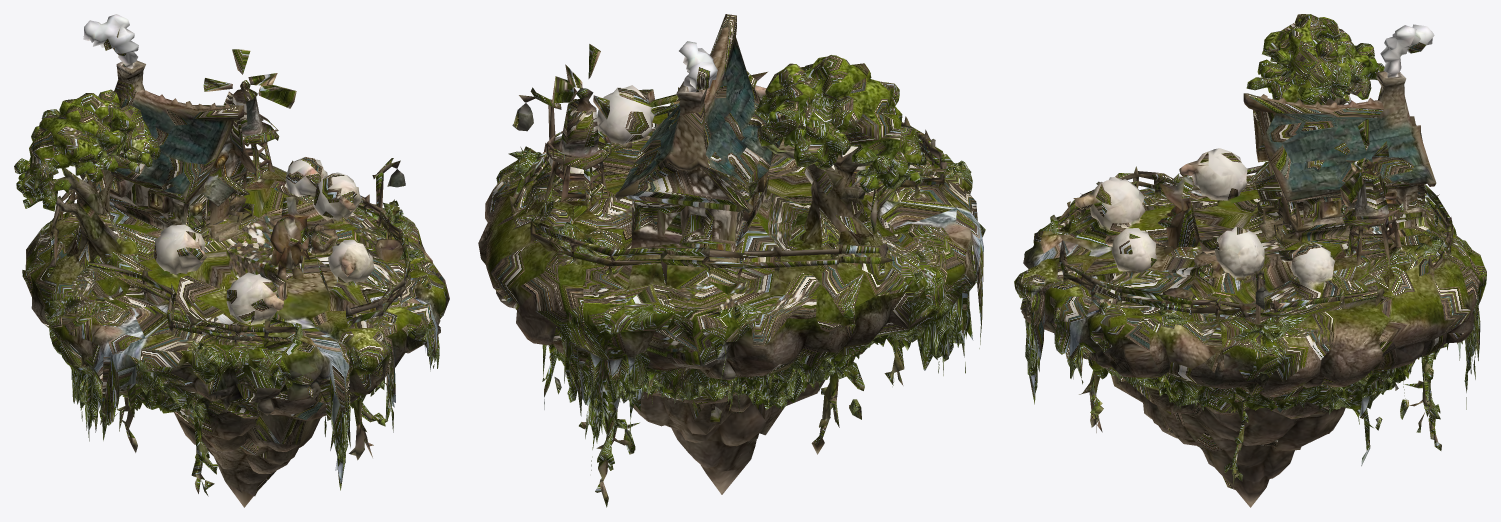
Rendered from Floating_Island_Farm.glb.
3 renders of one model, left to right at view 1: azimuth 30°, elevation 25°; view 2: azimuth 150°, elevation 25°; view 3: azimuth 270°, elevation 25°, orthographic. The views are drawn at different scales.
Parts seen in each view (by area): view 1: Floating_Island_Farm; view 2: Floating_Island_Farm; view 3: Floating_Island_Farm.
Part boxes in pixels (left/top/right/bottom): Floating_Island_Farm: left=14, top=14, right=449, bottom=507; Floating_Island_Farm: left=478, top=14, right=985, bottom=507; Floating_Island_Farm: left=1014, top=14, right=1486, bottom=507.
Bounding box in the file's own units: 1.67 × 1.91 × 1.79.
1 material, 1 textured.
